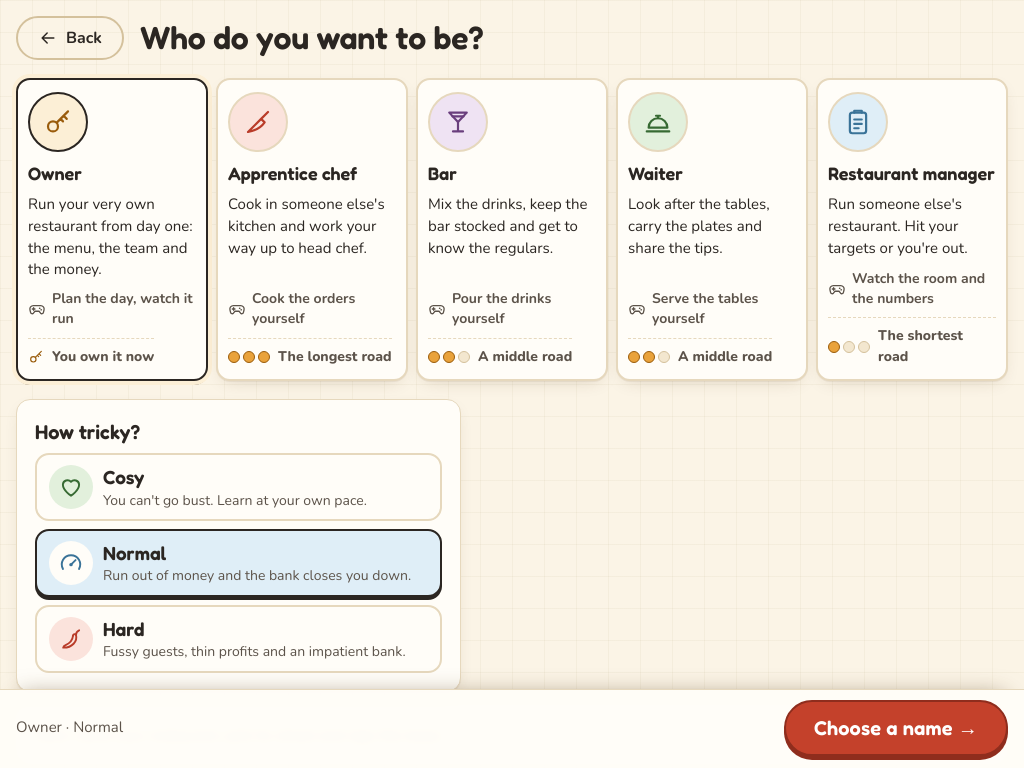
it: (h) start picker and lease › the start button lives in the pinned action dock, with the choices summed up beside it
This screenshot has width=1024, height=768.
Click the radio button labelled "Apprentice chef" at (312, 230), box [216,78,408,381]
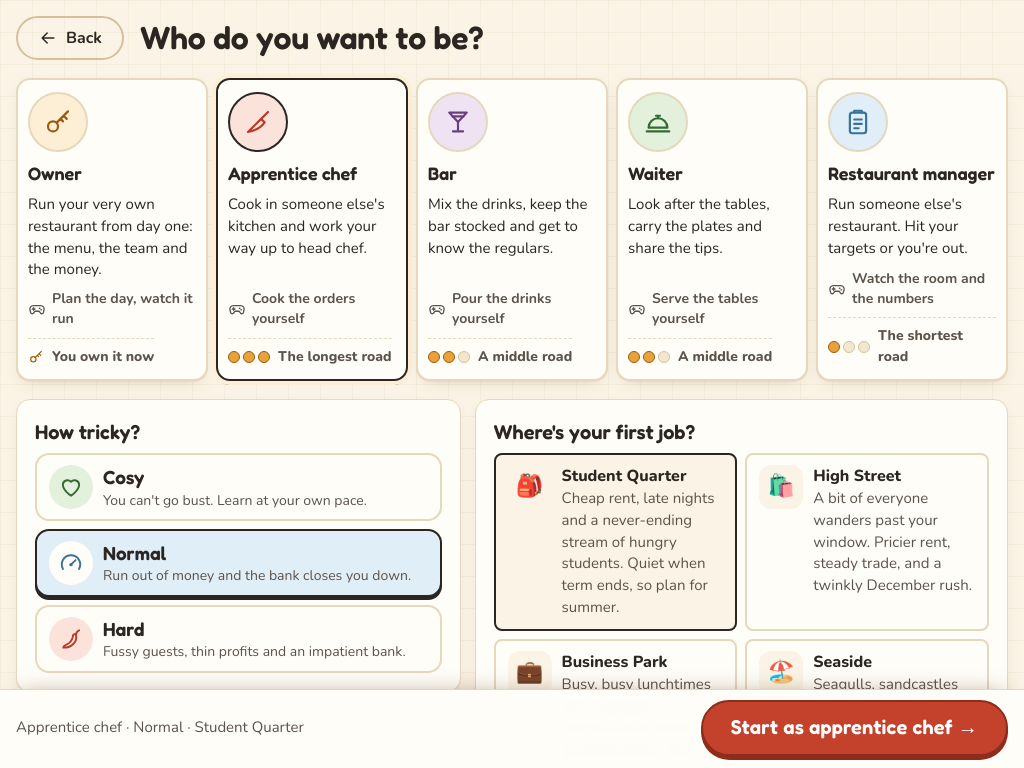
Expected: the button "Start as apprentice chef →" is shown, [701,700,1008,756]
Expected: the element with class "actiondock" shows "Apprentice chef · Normal ·", [0,689,1023,767]
